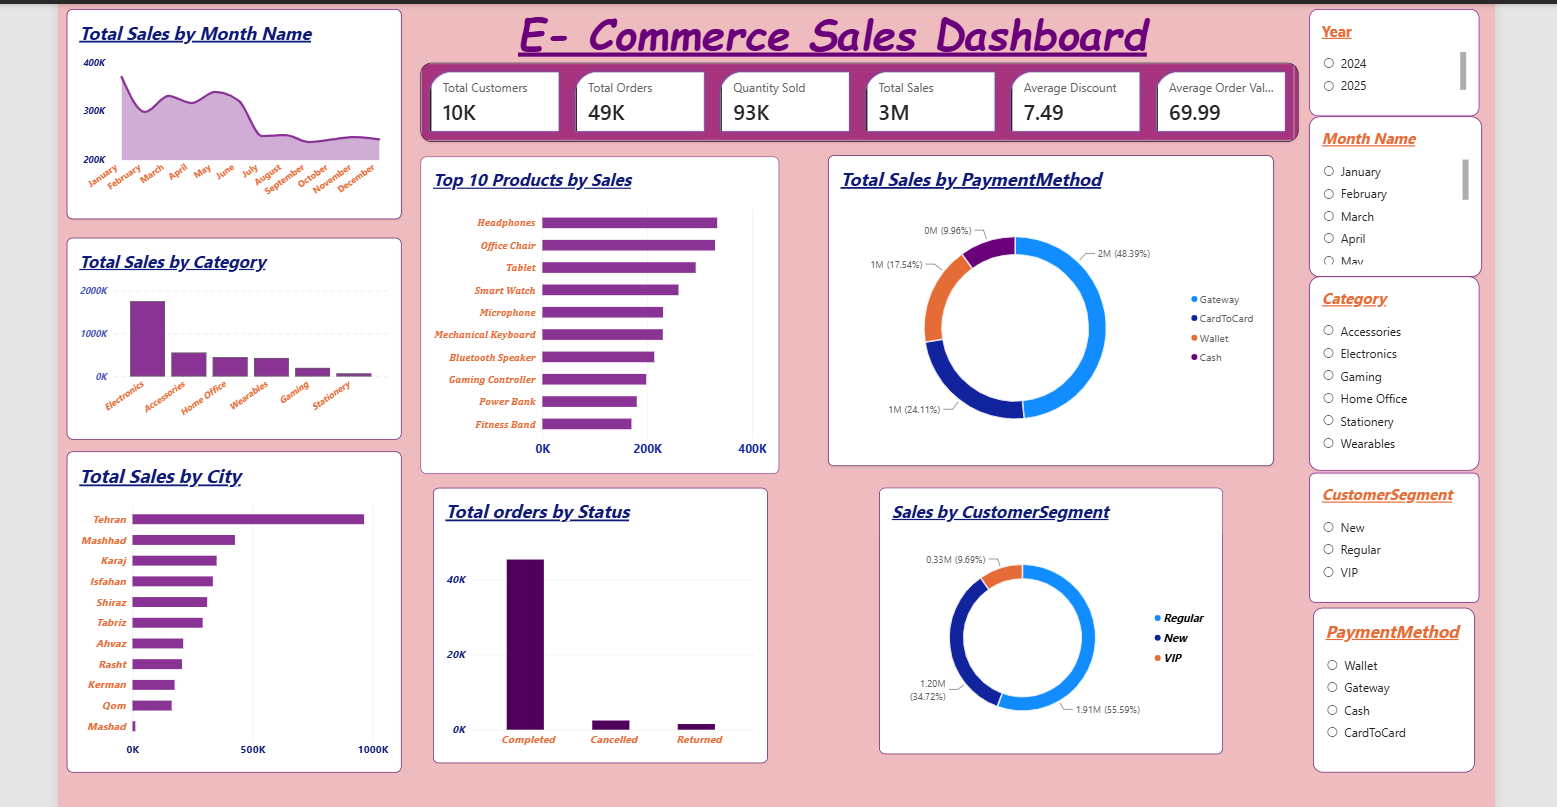

Layout of this report page (visuals, bound fields, positions):
{"tool":"powerbi","page":{"name":"Dashboard","canvas":[1920,1080],"ordinal":0},"visuals":[{"type":"cardVisual","fields":{"Data":["DateTable.Total Customers","DateTable.Total orders","products.Total Quanity","DateTable.Total Sales","DateTable.Average discount","DateTable.Average order value"]},"box":[484.6,78.7,1173,105.5],"z":0},{"type":"textbox","box":[615.1,0,883.3,100.1],"z":1000},{"type":"lineChart","fields":{"Category":["DateTable.Month Name"],"Y":["DateTable.Total Sales"]},"box":[12.5,7.2,447,280.7],"z":2000},{"type":"clusteredColumnChart","fields":{"Y":["DateTable.Total Sales"],"Category":["products.Category"]},"box":[12.5,312.9,447,270],"z":3000},{"type":"barChart","title":"Top 10 Products by Sales","fields":{"Y":["DateTable.Total Sales"],"Category":["products.ProductName"]},"box":[484.6,203.8,479.2,423.8],"z":4000},{"type":"donutChart","title":"Sales by CustomerSegment","fields":{"Category":["customers.CustomerSegment"],"Y":["DateTable.Total Sales"]},"box":[1097.9,645.5,459,356.1],"z":5000},{"type":"barChart","fields":{"Category":["customers.City"],"Y":["DateTable.Total Sales"]},"box":[12.5,597.2,447,429.1],"z":6000},{"type":"clusteredColumnChart","fields":{"Category":["clean_final_data.Status"],"Y":["DateTable.Total orders"]},"box":[500.7,645.5,447,368],"z":7000},{"type":"donutChart","fields":{"Category":["clean_final_data.PaymentMethod"],"Y":["DateTable.Total Sales"]},"box":[1028.1,202,595.4,414.8],"z":8000},{"type":"listSlicer","fields":{"Values":["DateTable.Year"]},"box":[1671.8,7.2,227.1,143],"z":9000},{"type":"listSlicer","fields":{"Values":["DateTable.Month Name"]},"box":[1671.8,150.2,230.7,214.6],"z":10000},{"type":"listSlicer","fields":{"Values":["products.Category"]},"box":[1671.8,364.8,227.1,259.3],"z":11000},{"type":"listSlicer","fields":{"Values":["customers.CustomerSegment"]},"box":[1671.8,625.8,227.1,173.4],"z":12000},{"type":"listSlicer","fields":{"Values":["clean_final_data.PaymentMethod"]},"box":[1677.2,806.4,216.4,219.9],"z":13000}]}

Visuals, with their boxes on the page's 1920x1080 design canvas (x1, y1, x2, y2). These are canvas units, not pixel positions in the 1557x807 screenshot, which may show the page scaled, cropped or inside an application window:
cardVisual - DateTable.Total Customers x DateTable.Total orders: crop(485, 79, 1658, 184)
textbox: crop(615, 0, 1498, 100)
lineChart - DateTable.Month Name x DateTable.Total Sales: crop(12, 7, 460, 288)
clusteredColumnChart - DateTable.Total Sales x products.Category: crop(12, 313, 460, 583)
"Top 10 Products by Sales" barChart: crop(485, 204, 964, 628)
"Sales by CustomerSegment" donutChart: crop(1098, 646, 1557, 1002)
barChart - customers.City x DateTable.Total Sales: crop(12, 597, 460, 1026)
clusteredColumnChart - clean_final_data.Status x DateTable.Total orders: crop(501, 646, 948, 1014)
donutChart - clean_final_data.PaymentMethod x DateTable.Total Sales: crop(1028, 202, 1624, 617)
listSlicer - DateTable.Year: crop(1672, 7, 1899, 150)
listSlicer - DateTable.Month Name: crop(1672, 150, 1902, 365)
listSlicer - products.Category: crop(1672, 365, 1899, 624)
listSlicer - customers.CustomerSegment: crop(1672, 626, 1899, 799)
listSlicer - clean_final_data.PaymentMethod: crop(1677, 806, 1894, 1026)
